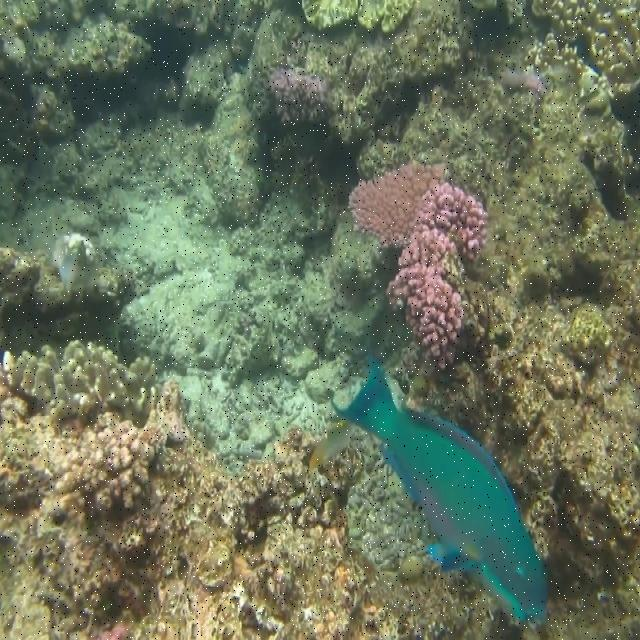fish: (332, 357, 549, 617)
reefs: (351, 157, 486, 370)
